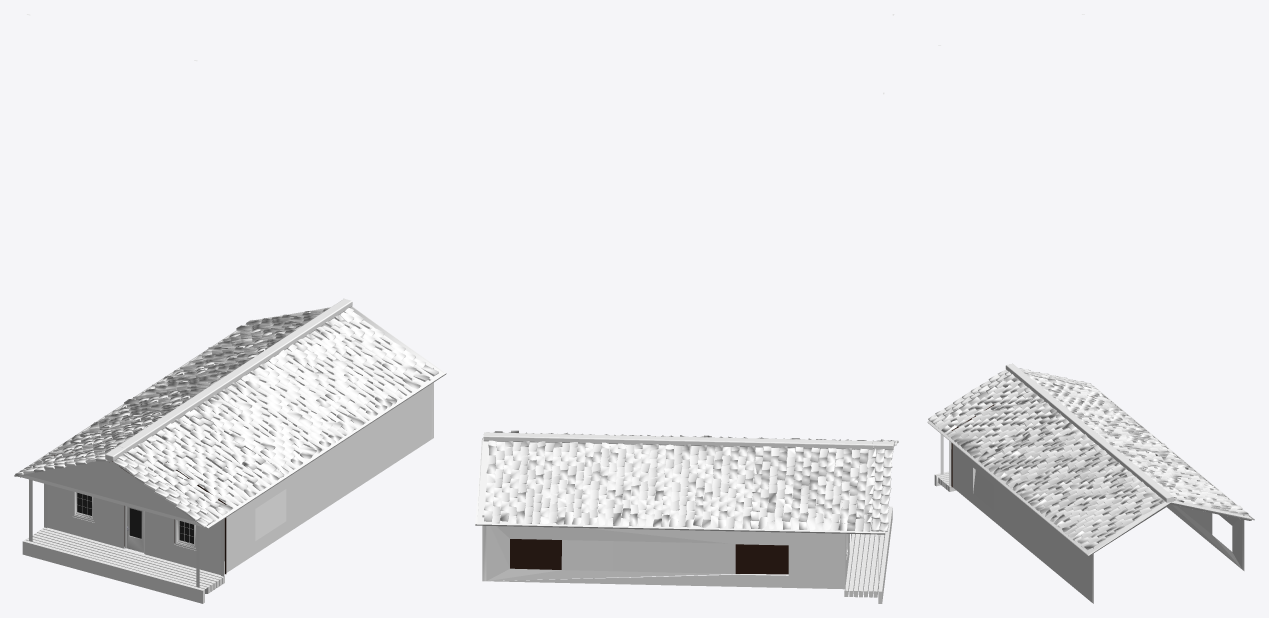
File: Casa.glb
3 views of the same model, side by side, from view 1: azimuth 30°, elevation 25°; view 2: azimuth 150°, elevation 25°; view 3: azimuth 270°, elevation 25° (orthographic). The views are drawn at different scales.
Parts seen in each view (by area): view 1: Sede - Casa ok - Comb.003, Sede - Casa ok - Comb.004, Sede - Casa ok - Comb.007, Sede - Casa ok - Comb.001, Sede - Casa ok - Comb.006; view 2: Sede - Casa ok - Comb.003, Sede - Casa ok - Comb.004, Sede - Casa ok - Comb.007, Sede - Casa ok - Comb.005; view 3: Sede - Casa ok - Comb.003, Sede - Casa ok - Comb.004, Sede - Casa ok - Comb.007.
Part boxes in pixels (x1=…): Sede - Casa ok - Comb.003: x1=15, y1=298, x2=438, y2=570; Sede - Casa ok - Comb.004: x1=27, y1=384, x2=431, y2=574; Sede - Casa ok - Comb.007: x1=14, y1=14, x2=446, y2=603; Sede - Casa ok - Comb.001: x1=74, y1=492, x2=195, y2=553; Sede - Casa ok - Comb.006: x1=77, y1=493, x2=193, y2=543; Sede - Casa ok - Comb.003: x1=483, y1=430, x2=898, y2=531; Sede - Casa ok - Comb.004: x1=486, y1=459, x2=891, y2=588; Sede - Casa ok - Comb.007: x1=475, y1=14, x2=894, y2=603; Sede - Casa ok - Comb.005: x1=510, y1=539, x2=788, y2=574; Sede - Casa ok - Comb.003: x1=928, y1=363, x2=1248, y2=550; Sede - Casa ok - Comb.004: x1=951, y1=443, x2=1242, y2=602; Sede - Casa ok - Comb.007: x1=927, y1=14, x2=1254, y2=603.
Bounding box in the file's own units: 21.25 × 25.6 × 17.35.
